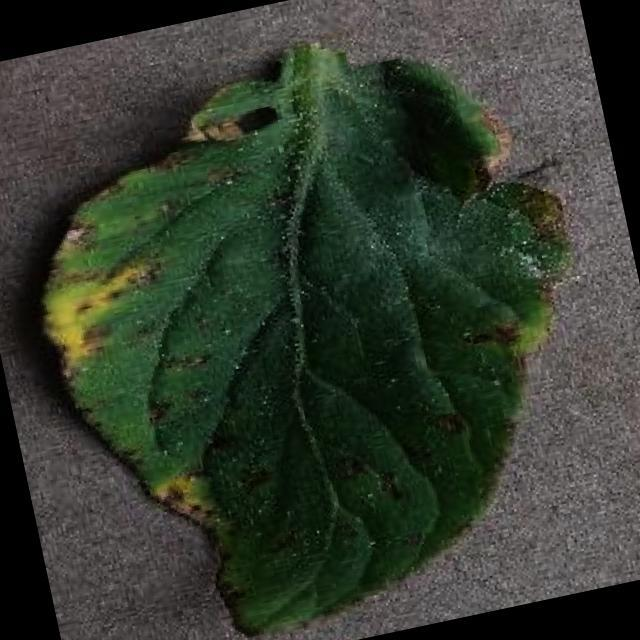Tomato bacterial spot leaf: (0, 21, 638, 640)
